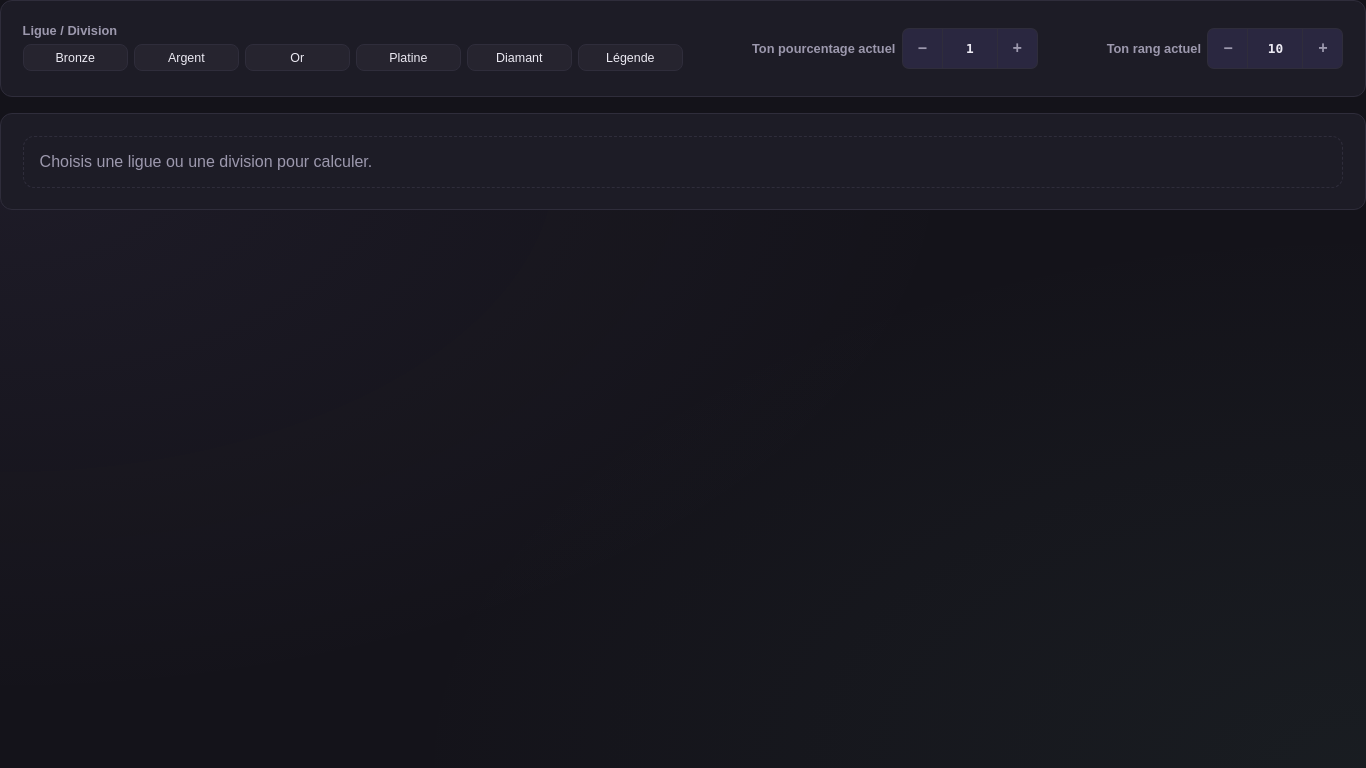
Test case: RankingCalculator › converts correlated rank and percentage and renders confirmed rewards
Click the button "Diamant" at (519, 58), box top-left (467, 44), bottom-right (572, 71)
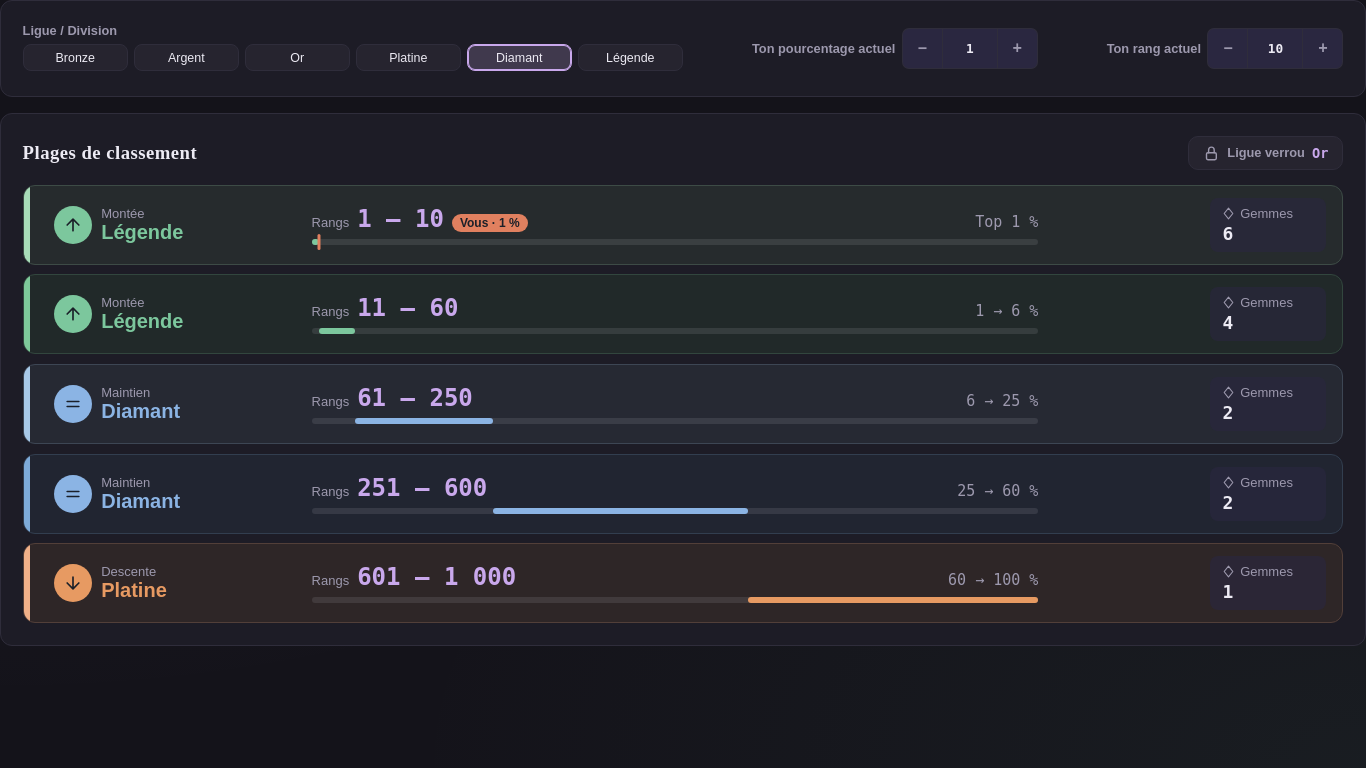
Expected: the text "Montée" is shown 2 times, top-left (101, 206), bottom-right (145, 221); top-left (101, 295), bottom-right (145, 310)
Expected: the text "Légende" is shown 2 times, top-left (101, 221), bottom-right (184, 244); top-left (101, 310), bottom-right (184, 333)
